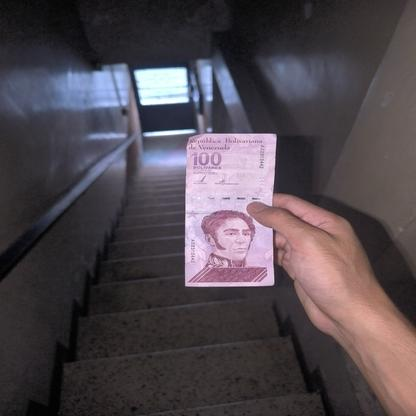one_hundred-front-vef: (183, 132, 278, 288)
